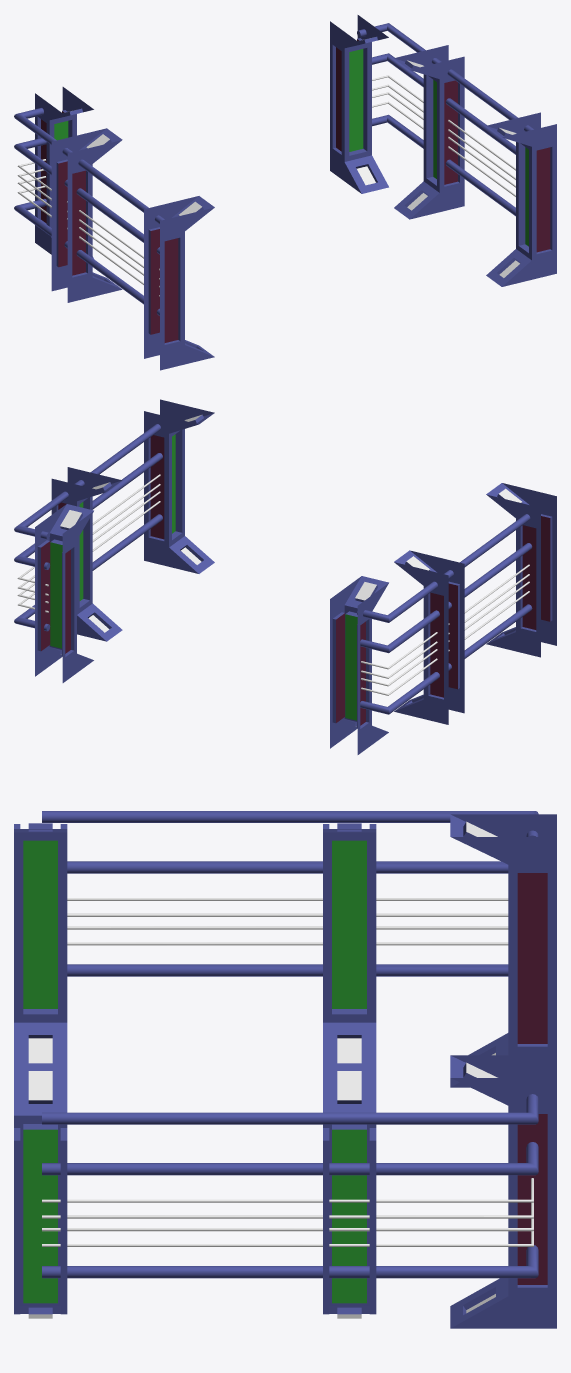
Rendered from WallCornerDets.fbx.
3 renders of one model, top to bottom at view 1: azimuth 30°, elevation 25°; view 2: azimuth 150°, elevation 25°; view 3: azimuth 270°, elevation 25°, orthographic. The views are drawn at different scales.
Visible parts, largest first — view 1: Box003, Box004, Line008, Line007; view 2: Box004, Box003, Line008, Line007; view 3: Box004, Box003, Line007, Line008.
Part boxes in pixels (x1,y1,x2,y2): Box003: [330, 15, 556, 286]; Box004: [35, 87, 214, 370]; Line008: [14, 108, 164, 315]; Line007: [357, 23, 533, 216]; Box004: [330, 483, 556, 754]; Box003: [35, 399, 214, 682]; Line008: [357, 514, 532, 714]; Line007: [14, 424, 162, 631]; Box004: [14, 814, 556, 1087]; Box003: [14, 1055, 556, 1328]; Line007: [42, 1094, 538, 1278]; Line008: [42, 811, 538, 976].
Bounding box in the file's own units: 14.41 × 5.19 × 10.2.
